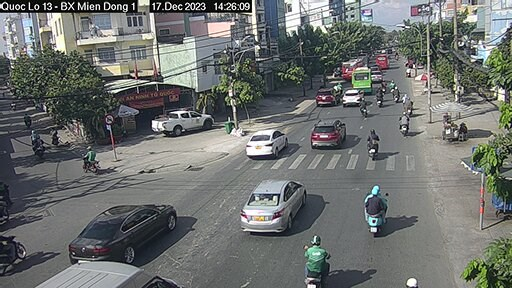bus: (349, 68, 374, 92)
car: (72, 203, 180, 261), (243, 177, 306, 232), (150, 105, 215, 136), (244, 128, 289, 157), (308, 119, 350, 147), (315, 86, 341, 108), (340, 57, 362, 77), (341, 89, 362, 106), (376, 52, 391, 70)
motorbike: (297, 238, 328, 288), (364, 182, 387, 236), (79, 148, 101, 174), (366, 127, 382, 158), (397, 114, 410, 135)
